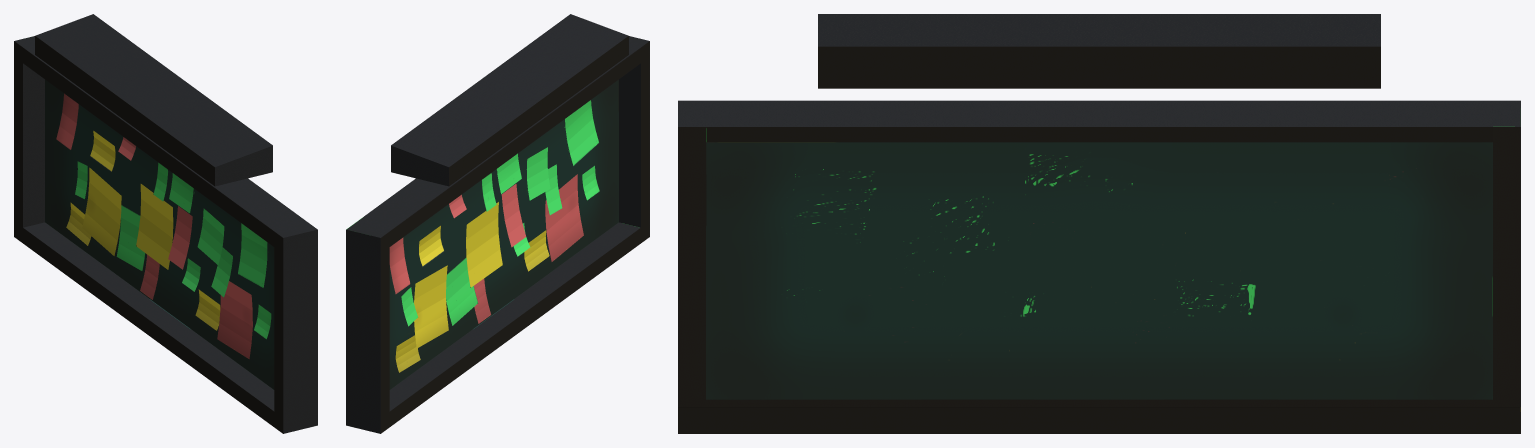
File: WallTaskBoard_001.fbx
3 renders of one model, left to right at view 1: azimuth 30°, elevation 25°; view 2: azimuth 150°, elevation 25°; view 3: azimuth 270°, elevation 25°, orthographic. The views are drawn at different scales.
Parts seen in each view (by area): view 1: WallTaskBoard_001; view 2: WallTaskBoard_001; view 3: WallTaskBoard_001.
Part boxes in pixels (left/top/right/bottom): WallTaskBoard_001: left=14, top=14, right=317, bottom=433; WallTaskBoard_001: left=346, top=14, right=649, bottom=433; WallTaskBoard_001: left=678, top=14, right=1520, bottom=433.
Bounding box in the file's own units: 31.16 × 126 × 249.
Materials: 1 (1 with a texture image).
